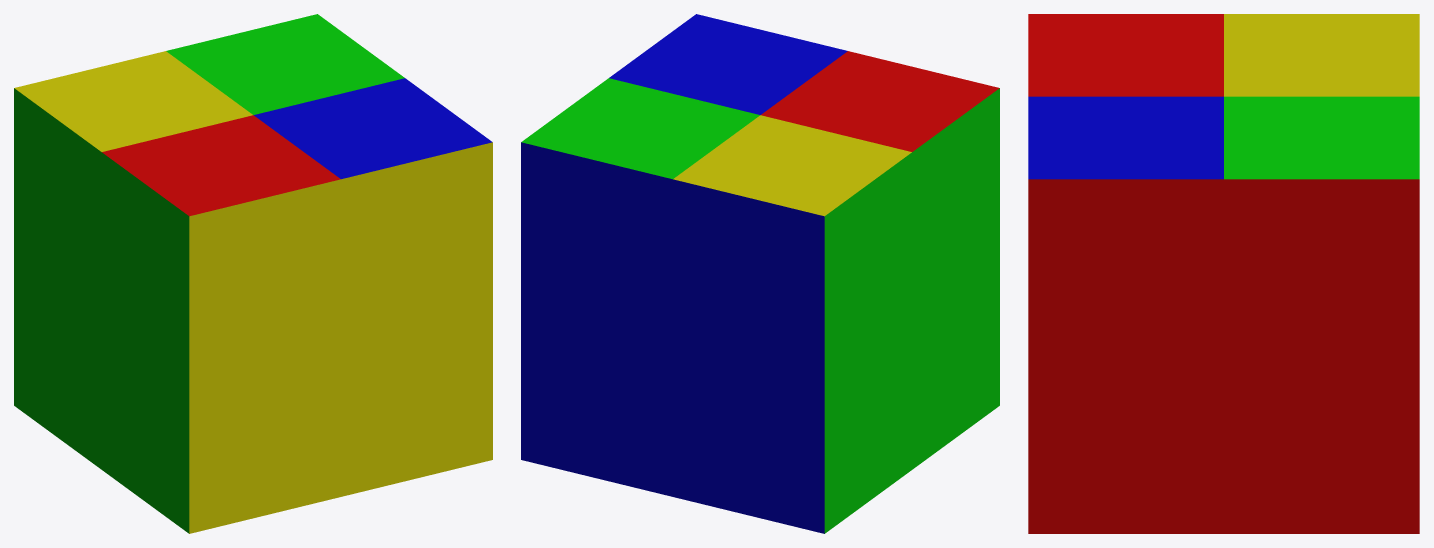
The model's file is CyberAttackerPlacement_6SidedDice.obj.
The picture shows the model from 3 angles, left to right: view 1: azimuth 30°, elevation 25°; view 2: azimuth 150°, elevation 25°; view 3: azimuth 270°, elevation 25°; orthographic projection. The views are drawn at different scales.
Visible parts, largest first — view 1: Cube; view 2: Cube; view 3: Cube.
Boxes of the visible parts, box(x1,y1,x2,y2) form: Cube: box(14, 14, 492, 533); Cube: box(521, 14, 999, 533); Cube: box(1028, 14, 1419, 533).
Bounding box in the file's own units: 2 × 2 × 2.
